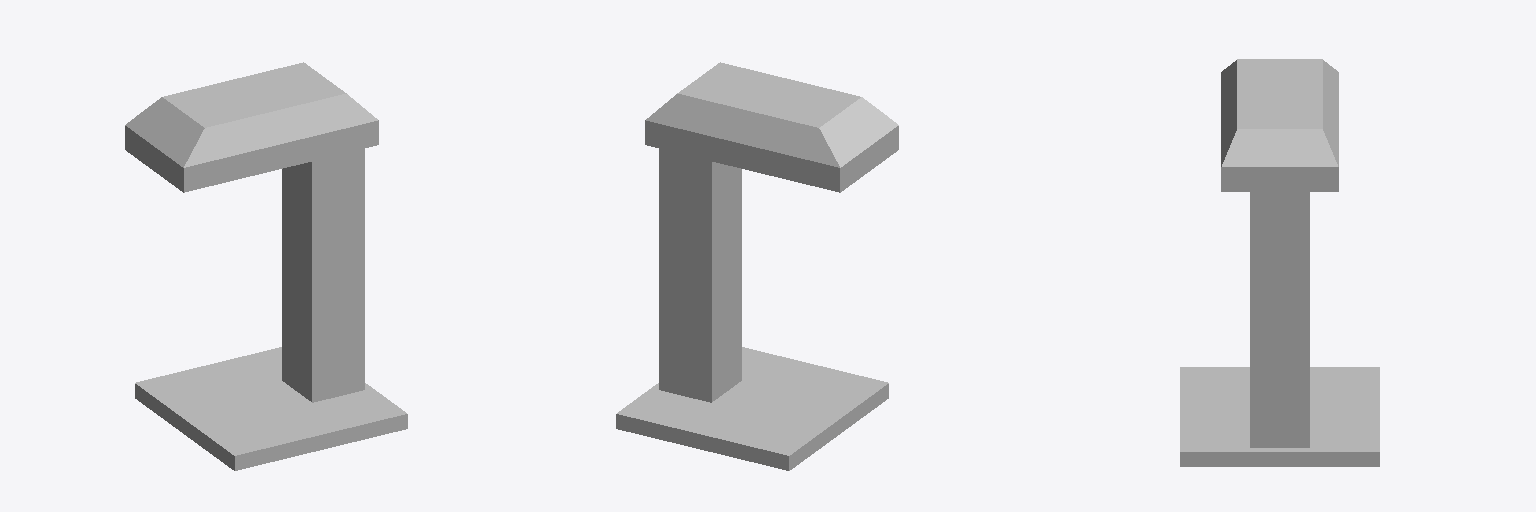
The model's file is Lamp 5.obj.
The picture shows the model from 3 angles: view 1: azimuth 30°, elevation 25°; view 2: azimuth 150°, elevation 25°; view 3: azimuth 270°, elevation 25°; orthographic projection.
Parts seen in each view (by area): view 1: Cube.002_Cube.003, Cube.001_Cube.002, Cube_Cube.001; view 2: Cube.002_Cube.003, Cube.001_Cube.002, Cube_Cube.001; view 3: Cube.002_Cube.003, Cube.001_Cube.002, Cube_Cube.001.
Boxes of the visible parts, x1,y1,x2,y2 form: Cube.002_Cube.003: [125, 62, 378, 192]; Cube.001_Cube.002: [282, 149, 364, 402]; Cube_Cube.001: [135, 347, 407, 470]; Cube.002_Cube.003: [645, 62, 898, 192]; Cube.001_Cube.002: [659, 149, 741, 402]; Cube_Cube.001: [616, 347, 888, 470]; Cube.002_Cube.003: [1221, 59, 1338, 191]; Cube.001_Cube.002: [1250, 192, 1309, 447]; Cube_Cube.001: [1180, 367, 1379, 466].
Bounding box in the file's own units: 2.35 × 3.56 × 2.